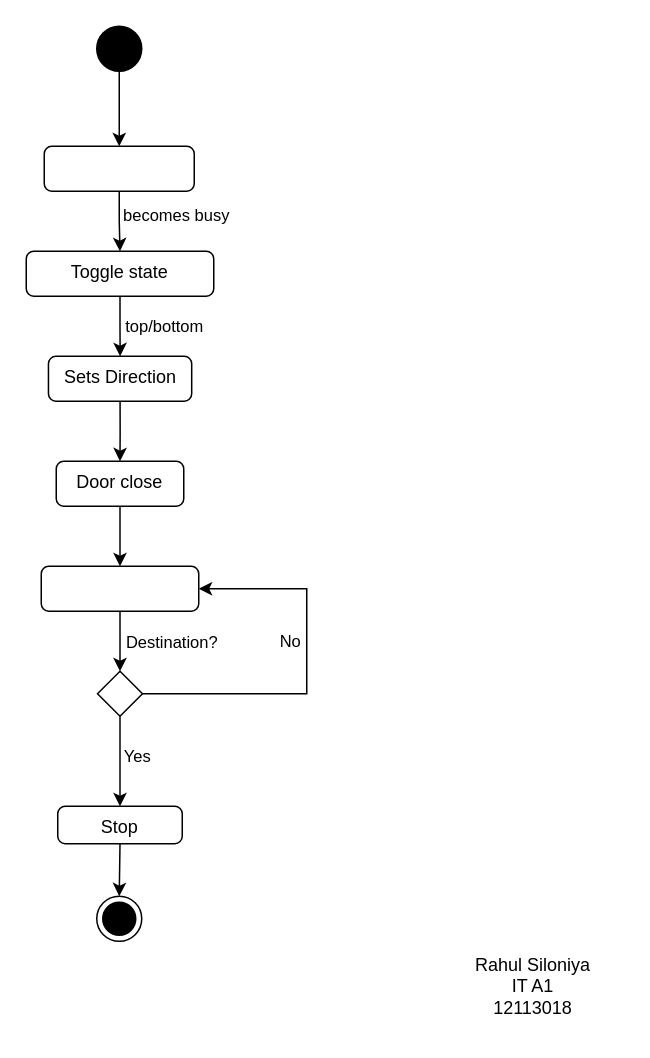
The diagram is 650 pixels wide and 1058 high, and some of its shapes have lost their labels. The box of each missing label's shape, as (x1, y1, x2, y2) in pixels:
Moving: (40, 565, 199, 611)
Select Floor: (43, 145, 194, 191)
